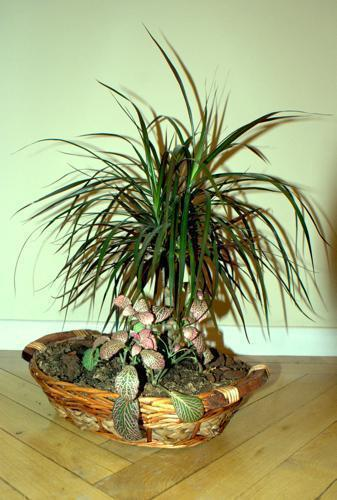Matera: (17, 34, 327, 451)
